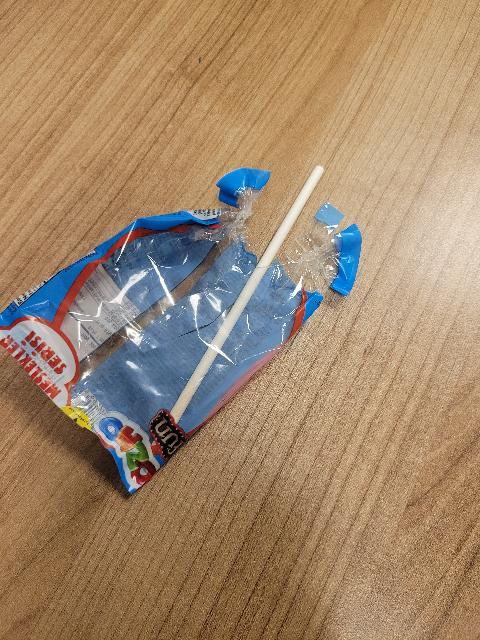Plastik: (0, 169, 361, 494), (171, 161, 332, 424)
